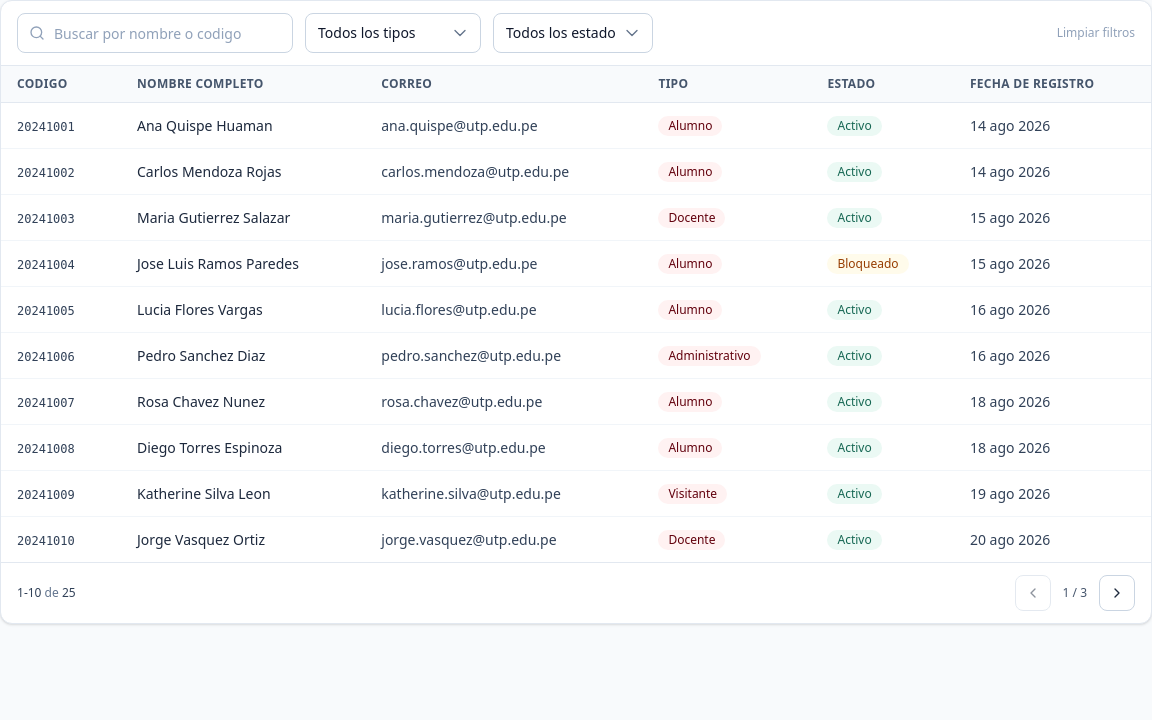
Test: UsuariosPage (RFA01) › pagina en el servidor y actualiza el rango de la pagina
What coordinates should you click on to do the following:
click the button named "Pagina siguiente"
I would click on:
 (1117, 593)
Its box is [1099, 575, 1135, 611].
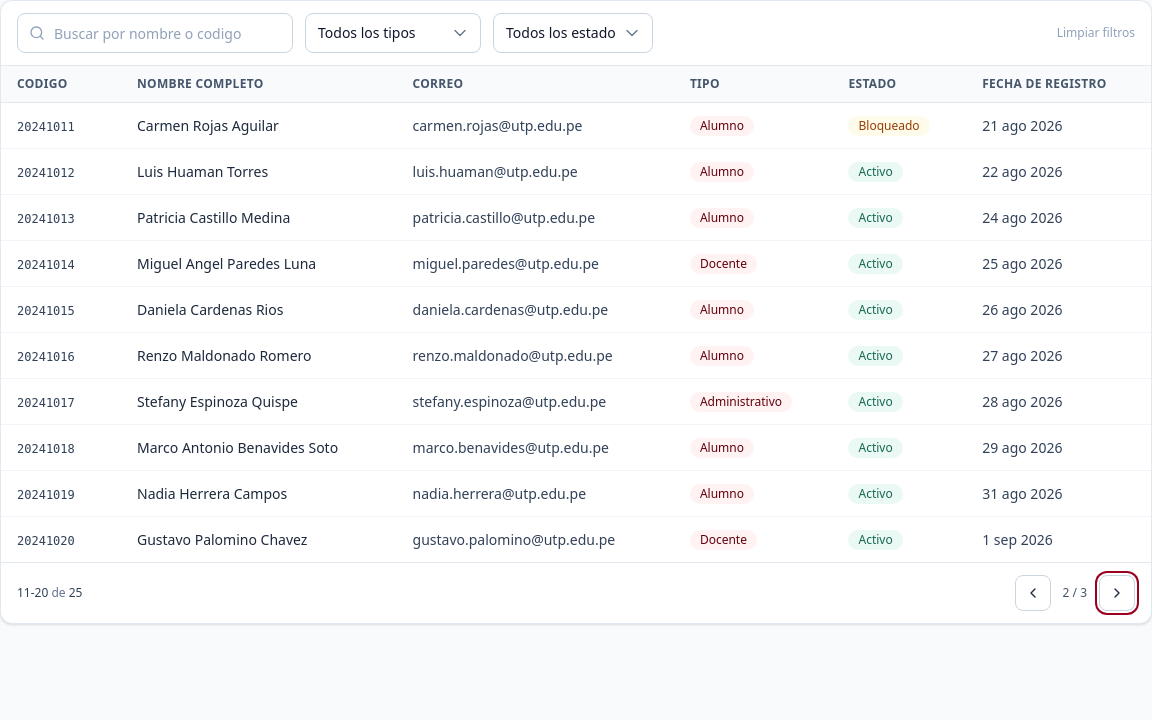
Now the text "Carmen Rojas Aguilar" is shown, box [137, 116, 279, 134]
Now the button "Ana Quispe Huaman" is gone
